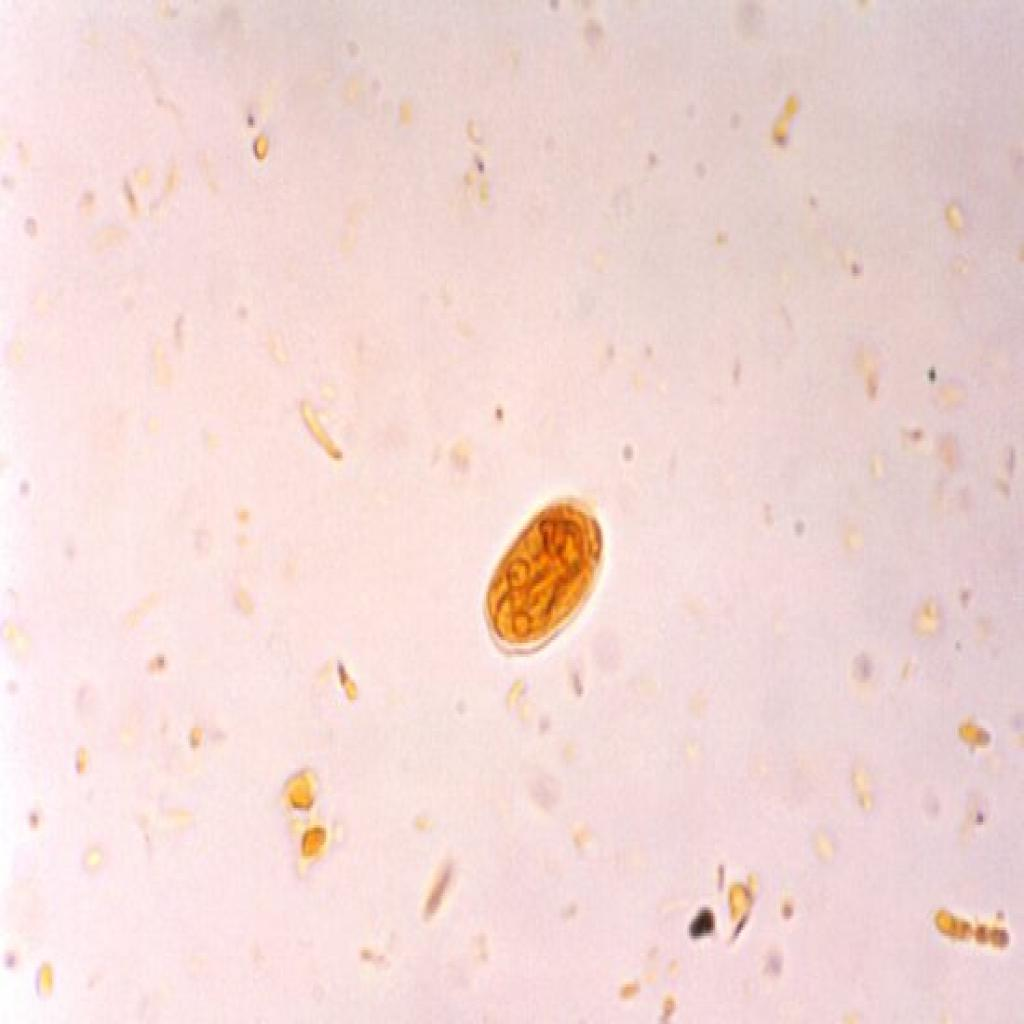Giardia: (473, 481, 611, 660)
